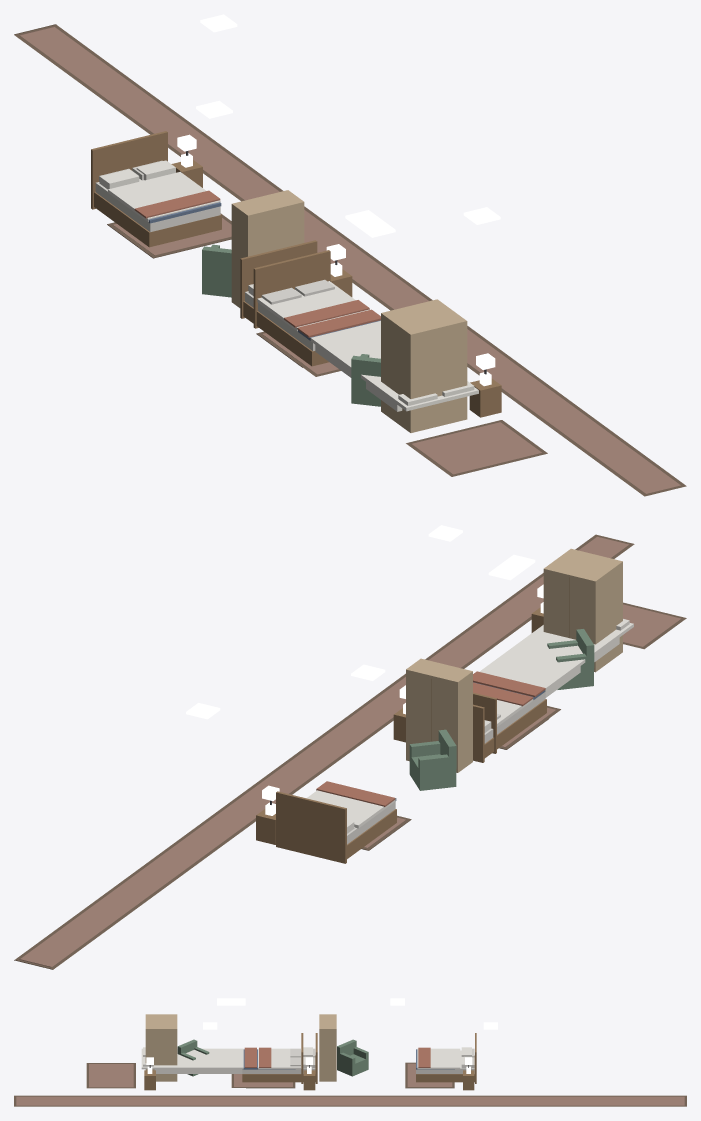
The model's file is fine-s1.glb.
3 views of the same model, one above another, from view 1: azimuth 30°, elevation 25°; view 2: azimuth 150°, elevation 25°; view 3: azimuth 270°, elevation 25° (orthographic). The views are drawn at different scales.
Visible parts, largest first — view 1: soft-s1, dresser.002, bed-frame.000, dresser.000, bed-frame.002, bed-frame.001, dresser.001, lounge-chair.000, lounge-chair.001, nightstand.002; view 2: soft-s1, dresser.000, bed-frame.000, dresser.001, lounge-chair.000, dresser.002, bed-frame.002, lounge-chair.001, bed-frame.001, nightstand.000; view 3: soft-s1, dresser.000, dresser.001, lounge-chair.000, bed-frame.000, bed-frame.002, bed-frame.001, dresser.002, lounge-chair.001, nightstand.001, nightstand.002, nightstand.000.
Part boxes in pixels (box(x1,y1,x2,y2)): soft-s1: box(14, 24, 686, 496); dresser.002: box(394, 309, 467, 432); bed-frame.000: box(91, 131, 221, 247); dresser.000: box(231, 190, 304, 307); bed-frame.002: box(253, 250, 380, 366); bed-frame.001: box(240, 240, 317, 356); dresser.001: box(381, 299, 453, 422); lounge-chair.000: box(202, 244, 231, 297); lounge-chair.001: box(351, 354, 380, 406); nightstand.002: box(469, 371, 501, 417); soft-s1: box(14, 534, 686, 969); dresser.000: box(406, 658, 472, 772); bed-frame.000: box(276, 791, 396, 863); dresser.001: box(543, 558, 610, 672); lounge-chair.000: box(409, 729, 456, 790); dresser.002: box(556, 548, 622, 661); bed-frame.002: box(473, 682, 546, 753); lounge-chair.001: box(547, 629, 594, 689); bed-frame.001: box(473, 701, 533, 762); nightstand.000: box(256, 802, 275, 844); soft-s1: box(14, 1047, 686, 1106); dresser.000: box(319, 1014, 336, 1081); dresser.001: box(160, 1014, 177, 1081); lounge-chair.000: box(337, 1039, 368, 1076); bed-frame.000: box(416, 1033, 476, 1083); bed-frame.002: box(242, 1033, 303, 1083); bed-frame.001: box(256, 1033, 317, 1083); dresser.002: box(145, 1014, 162, 1081); lounge-chair.001: box(177, 1039, 209, 1076); nightstand.001: box(303, 1066, 315, 1090); nightstand.002: box(144, 1066, 155, 1090); nightstand.000: box(463, 1066, 474, 1090).
Bounding box in the file's own units: 3.55 × 2.89 × 23.21.
